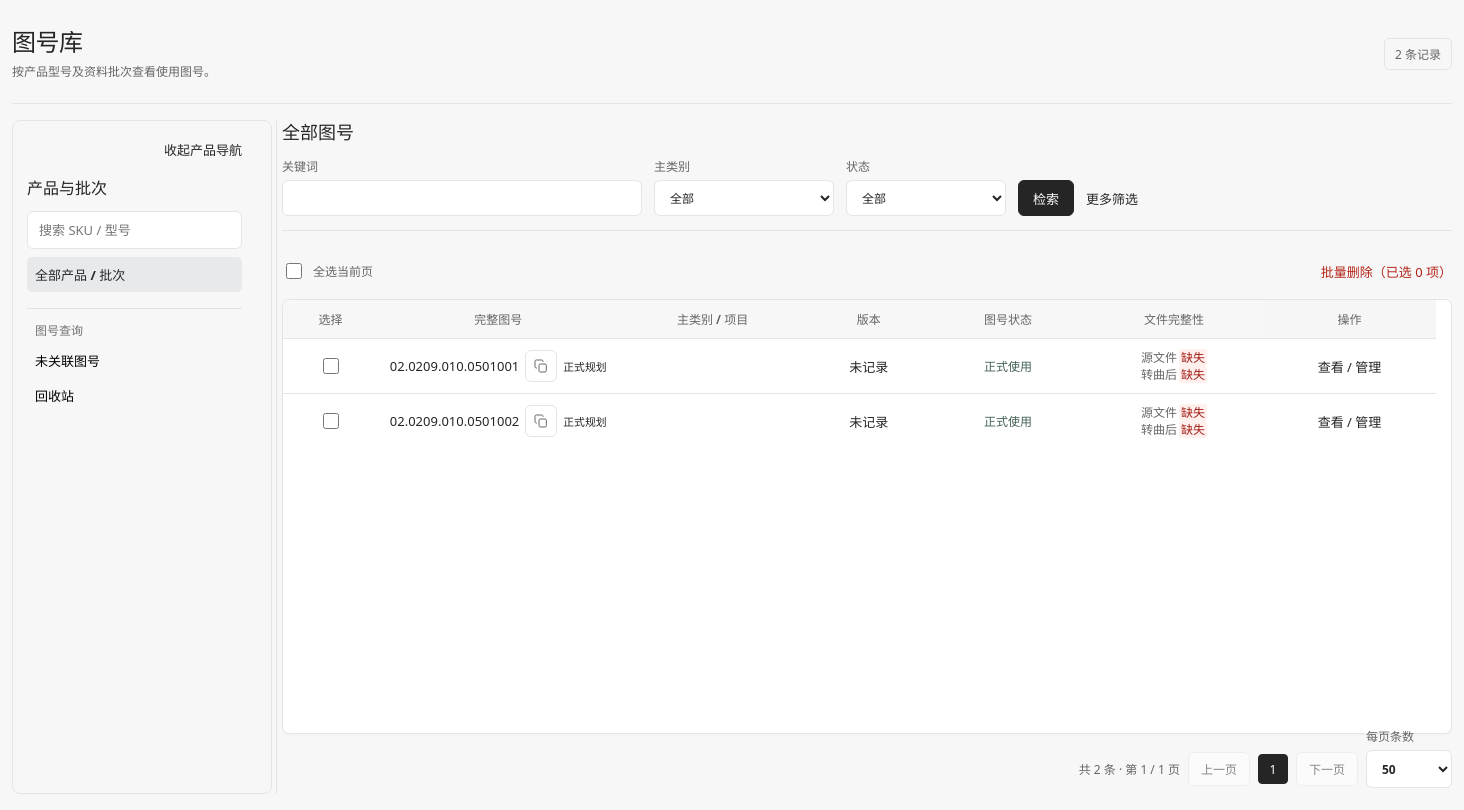
Test: DrawingLibraryPage › blocks record changes during deletion preflight and clears it when changing records afterward
Click the button "02.0209.010.0501001": (454, 366) [390,352,519,380]
(page scrolled)
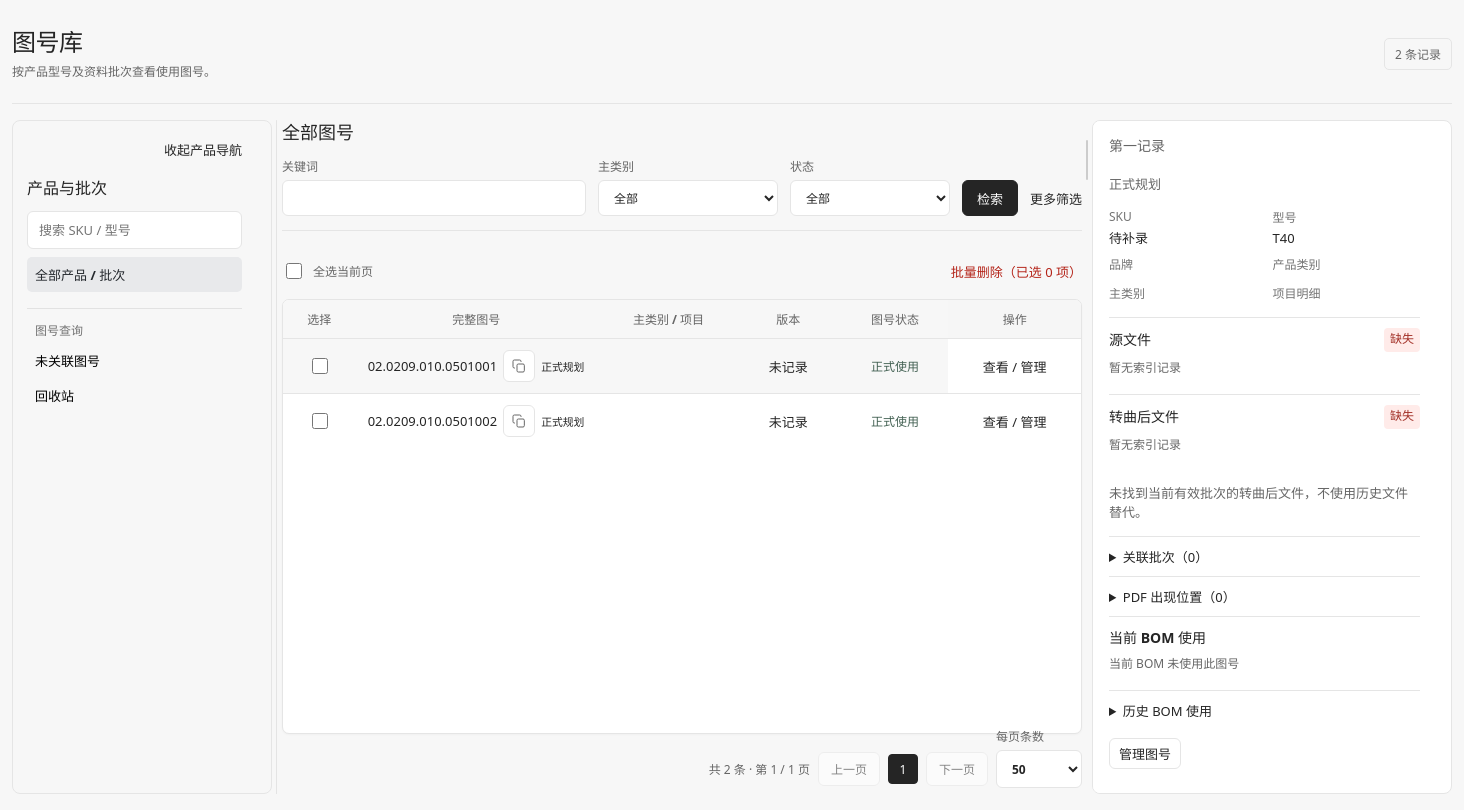
Click the button "管理图号": (1145, 753) [1109,738,1181,769]
(page scrolled)
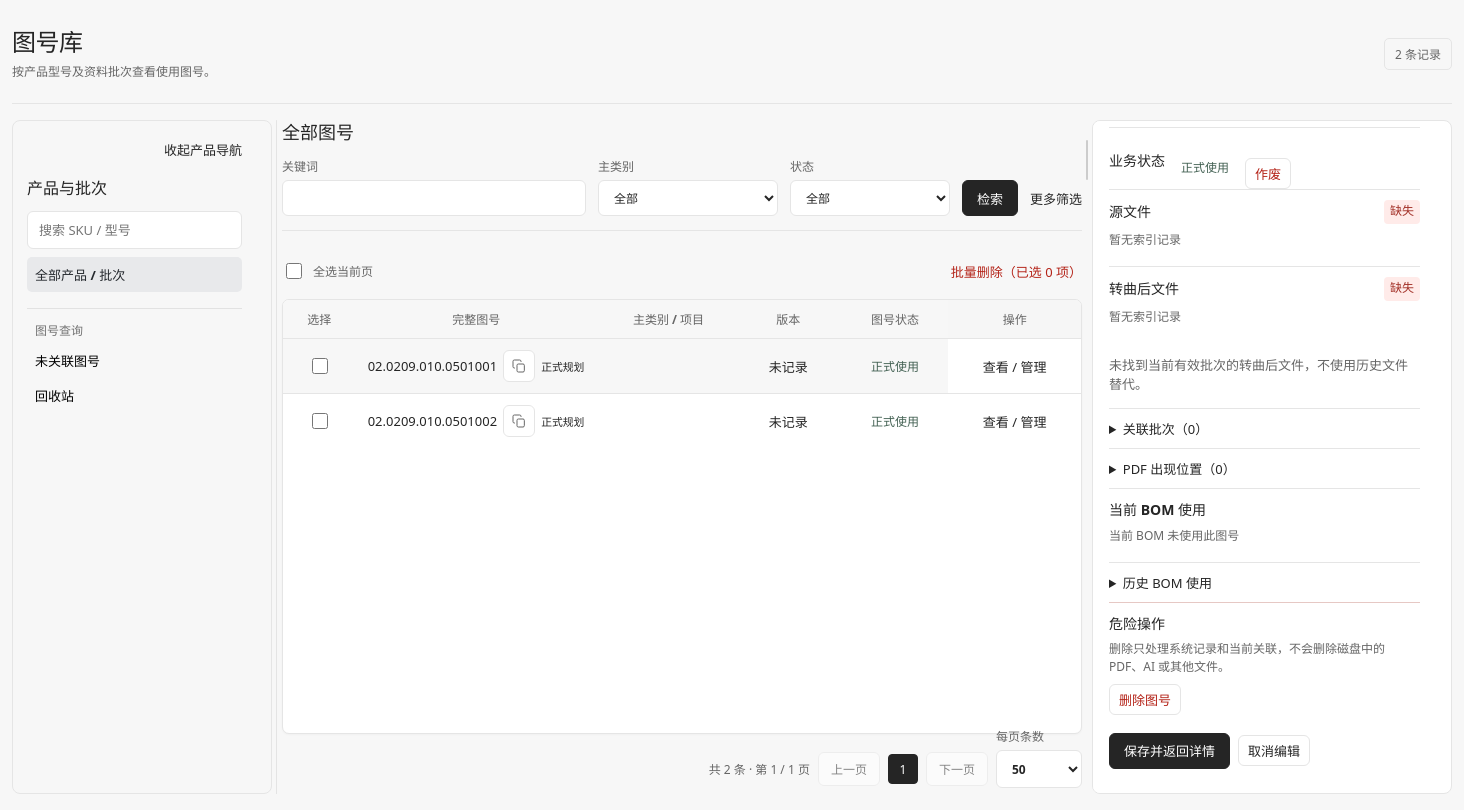
Click the button "删除图号": (1145, 699) [1109,684,1181,715]
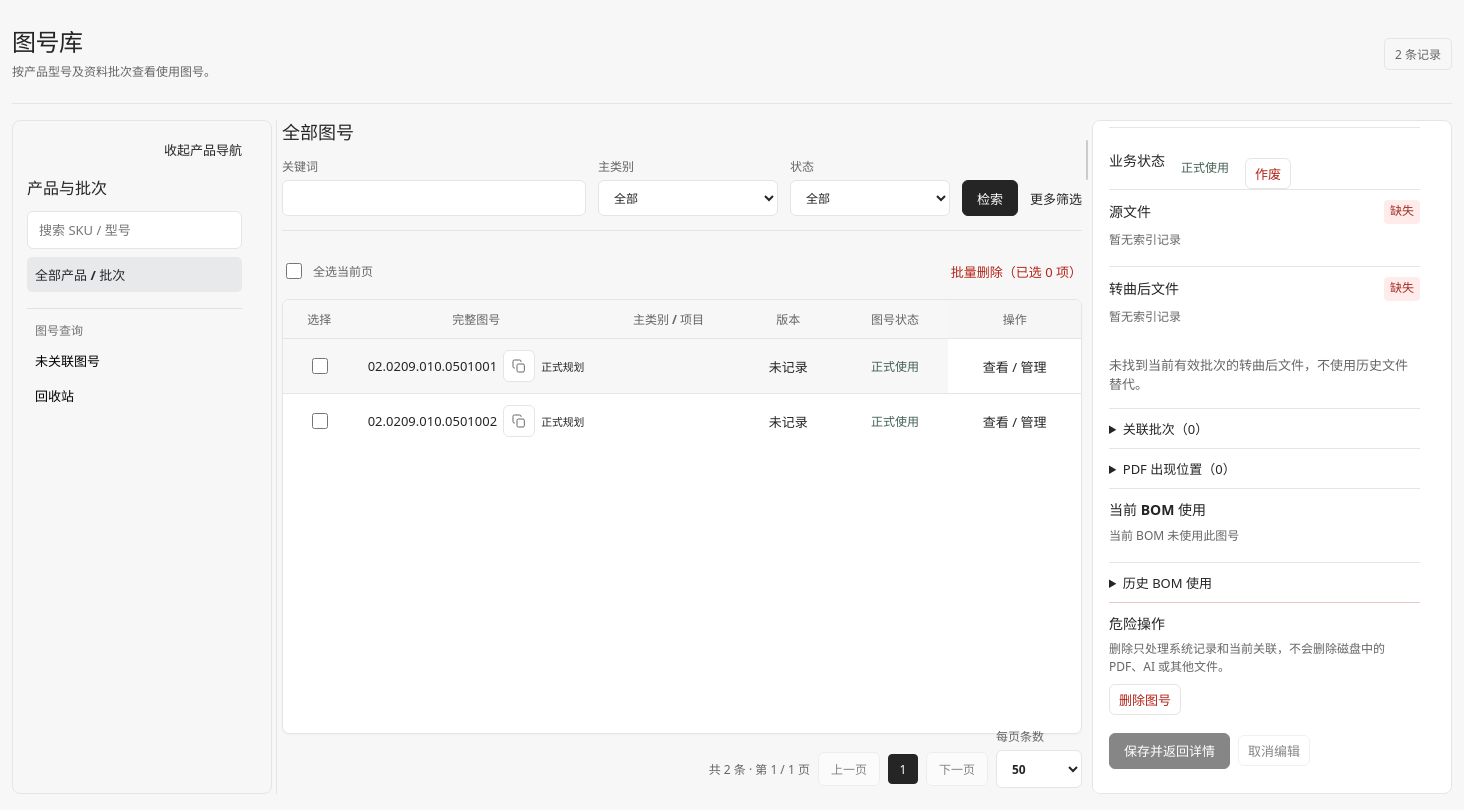
Click the button "02.0209.010.0501002": (432, 421) [368,407,497,435]
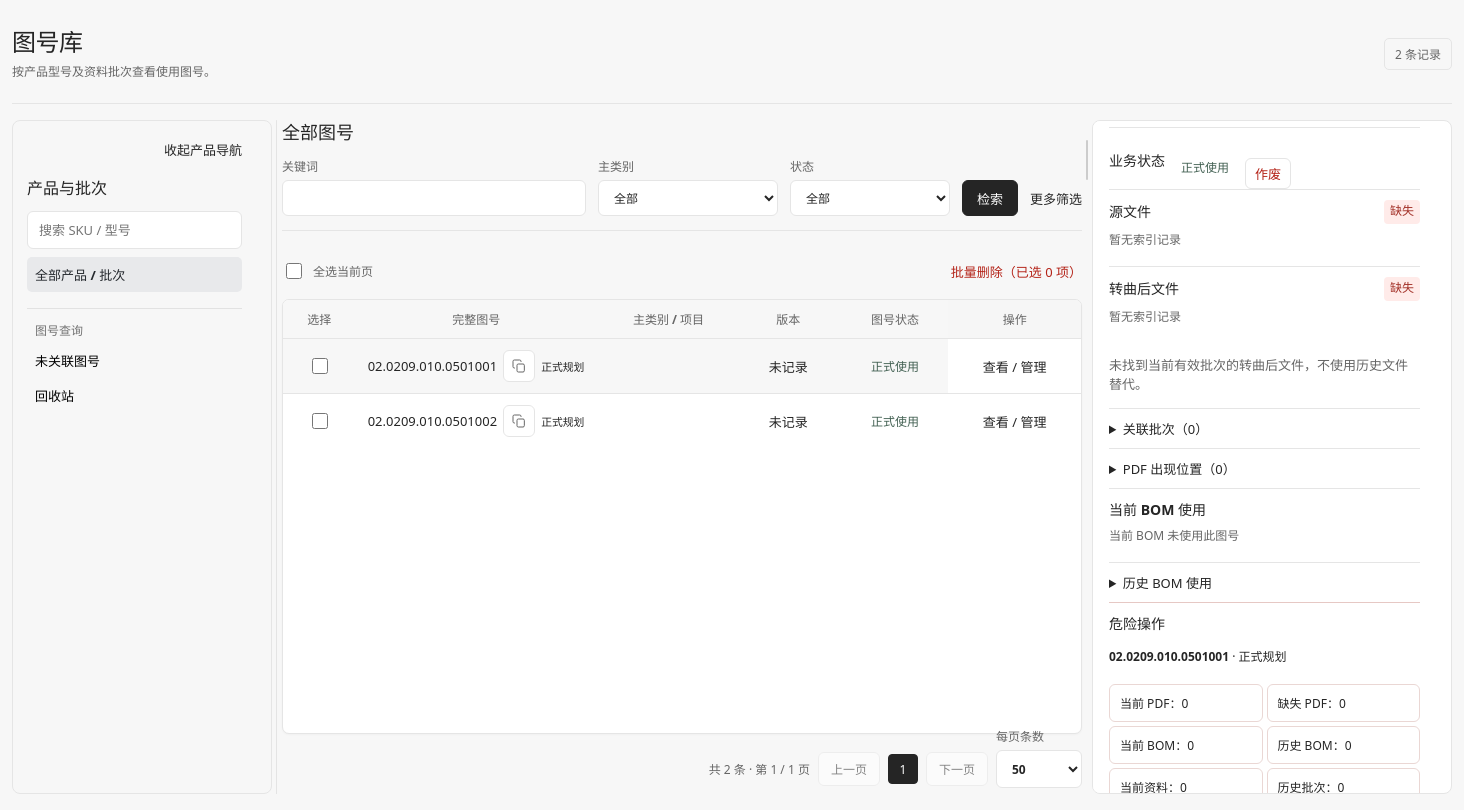
Click the button "02.0209.010.0501002": (432, 421) [368,407,497,435]
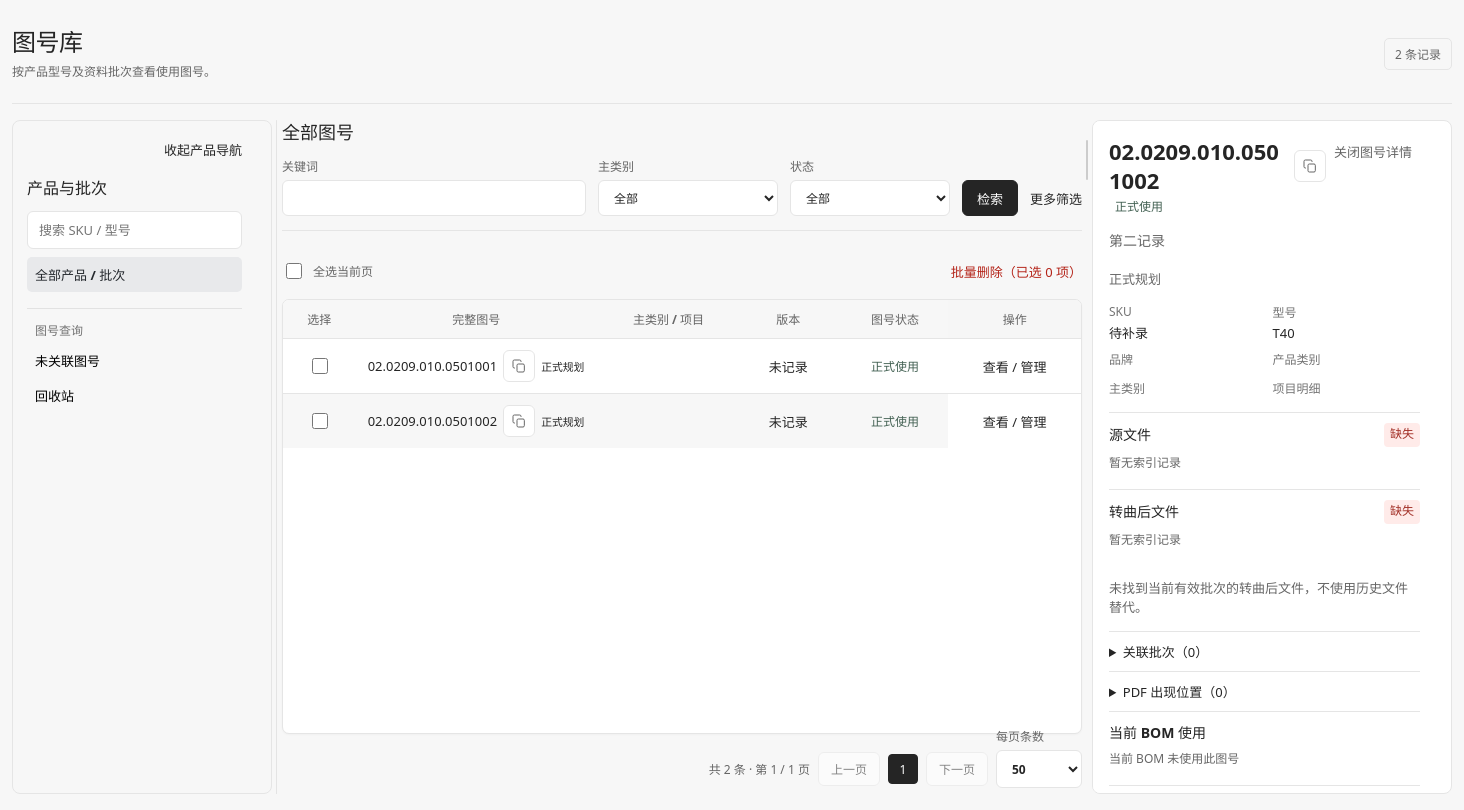
Result: the text "第二记录" is shown at [1109,231,1165,250]
